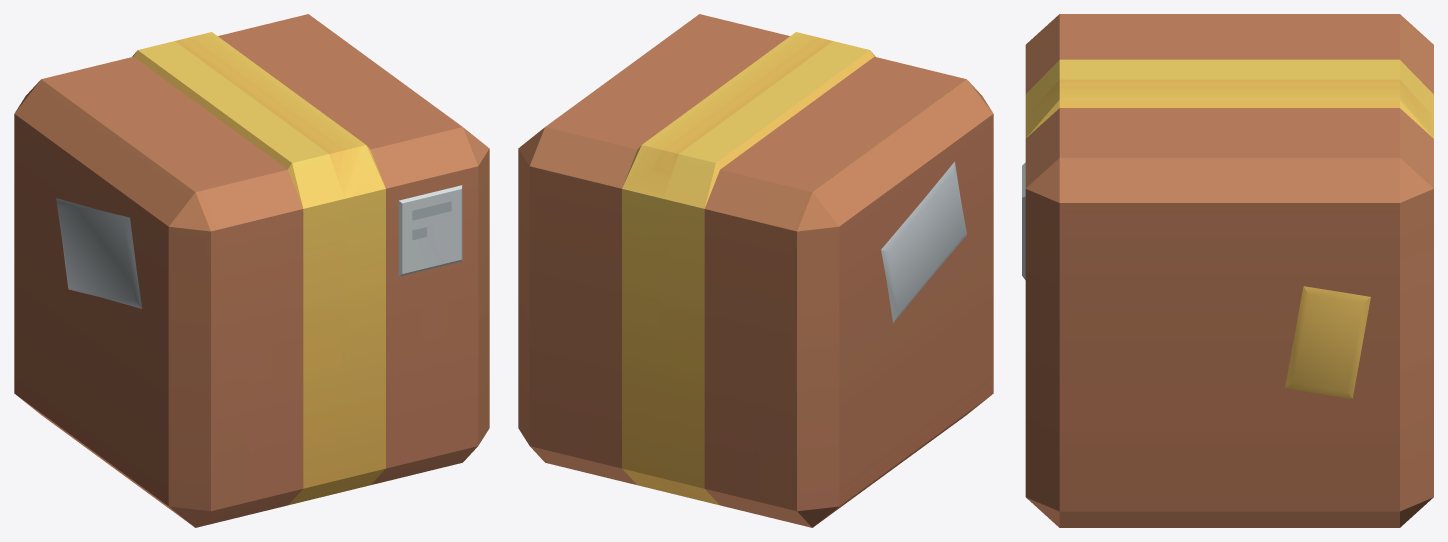
The model's file is containers_box_small.glb.
3 renders of one model, left to right at view 1: azimuth 30°, elevation 25°; view 2: azimuth 150°, elevation 25°; view 3: azimuth 270°, elevation 25°, orthographic. The views are drawn at different scales.
Visible parts, largest first — view 1: Containers_Box_Small; view 2: Containers_Box_Small; view 3: Containers_Box_Small.
Part boxes in pixels (bbox=[...]): Containers_Box_Small: bbox=[14, 14, 489, 527]; Containers_Box_Small: bbox=[518, 14, 993, 527]; Containers_Box_Small: bbox=[1022, 14, 1433, 527].
Bounding box in the file's own units: 0.4578 × 0.4575 × 0.4539.
1 material, 1 textured.
